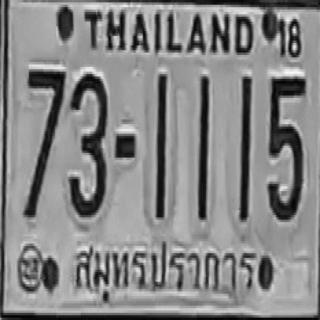N01: (196, 73, 209, 219), (155, 72, 167, 217), (239, 74, 250, 220)
N03: (67, 72, 107, 215)
N05: (266, 73, 305, 219)
N07: (23, 66, 64, 216)
P57: (66, 235, 263, 318)
